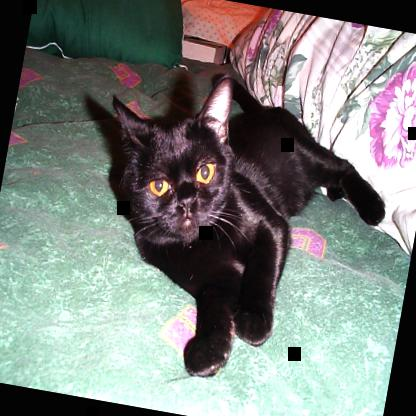cat: (67, 56, 402, 402)
